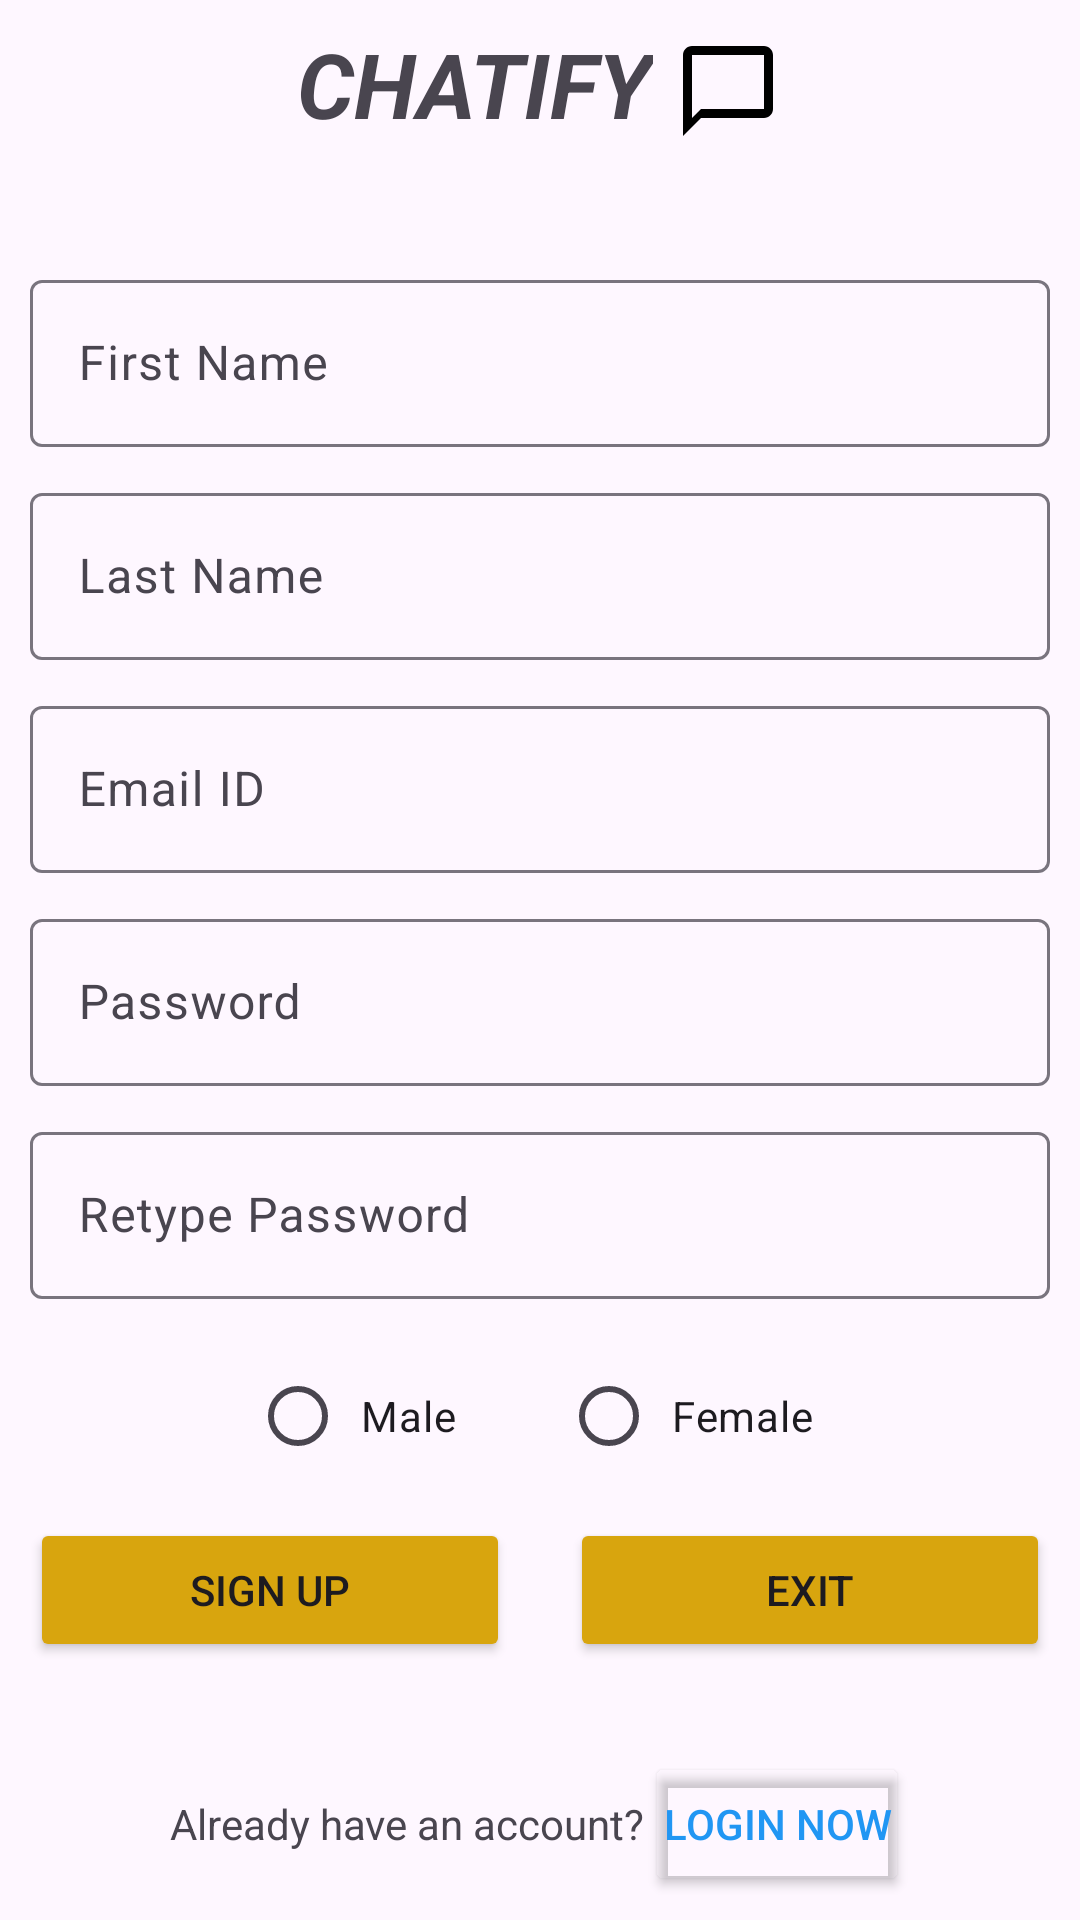

Named icons in this screenshot (1080*1920) and their bounding boxes, (x1, y1, x2, y2):
App Icon: (683, 46, 773, 136)
